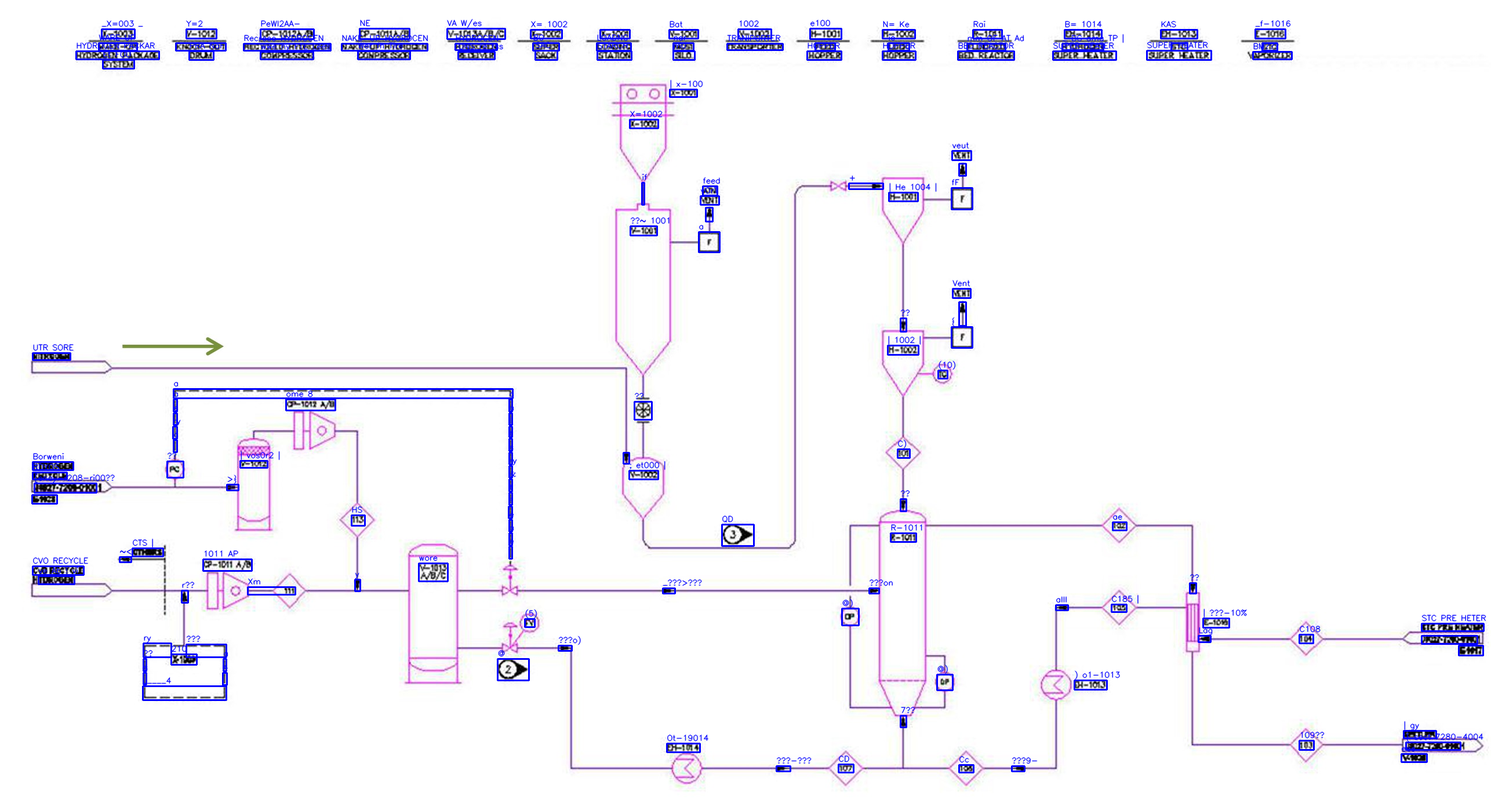Outro: (876, 509, 932, 720), (400, 539, 465, 686), (609, 81, 674, 185), (233, 436, 275, 534), (879, 325, 929, 400), (880, 174, 925, 246), (203, 569, 253, 612), (291, 408, 338, 452), (338, 502, 377, 540), (272, 572, 307, 610), (632, 395, 656, 425), (695, 230, 721, 255), (951, 187, 976, 211), (949, 325, 973, 349), (163, 458, 186, 480)
Reator: (1184, 589, 1202, 655)
TrocadordeCalor: (1040, 667, 1075, 704), (670, 751, 703, 786)
Vaso: (609, 199, 682, 379), (619, 455, 668, 521)
Válvula: (499, 611, 540, 656), (500, 562, 521, 599), (828, 177, 848, 193)
